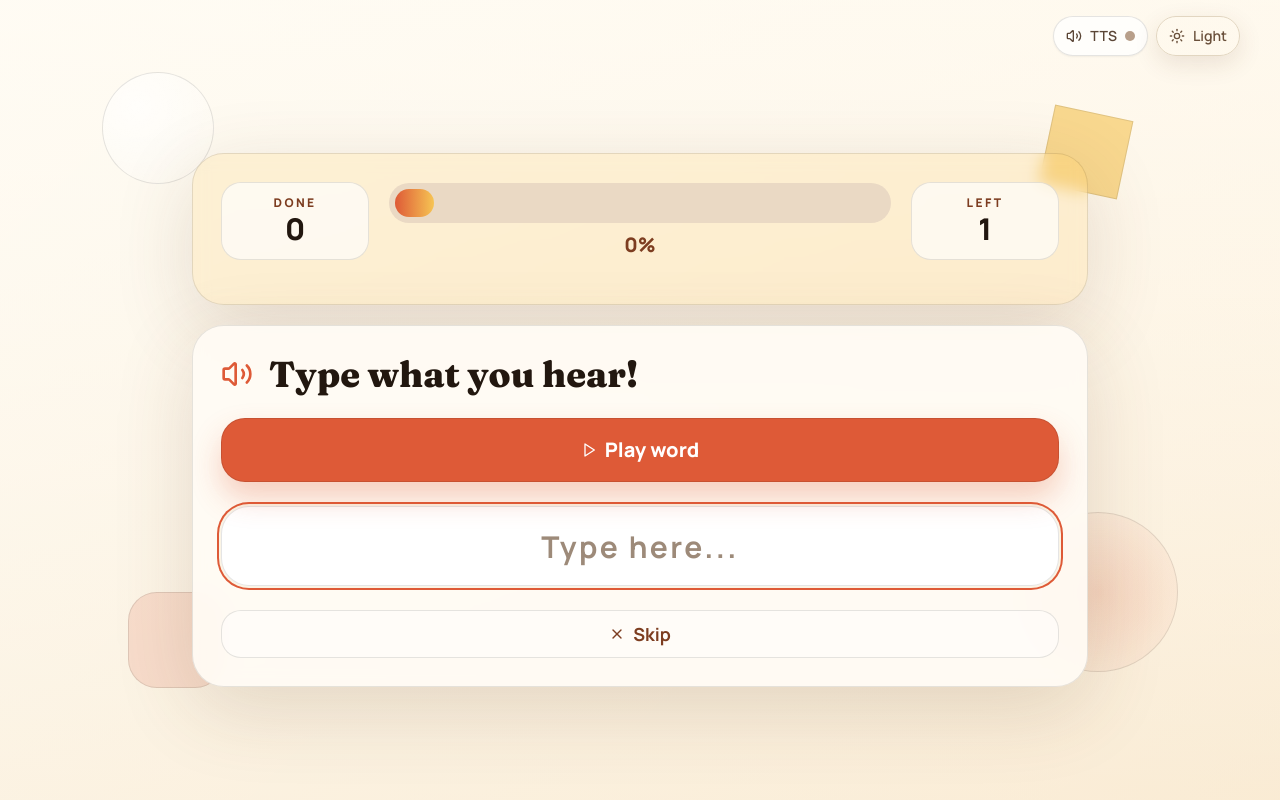
Test: QuestionScreen › rejects answer with different casing or accents in strict difficulty
Type "cafe" into the field with placeholder "Type here..." at [640, 546], box 221,506 -> 1059,586
Then press Enter
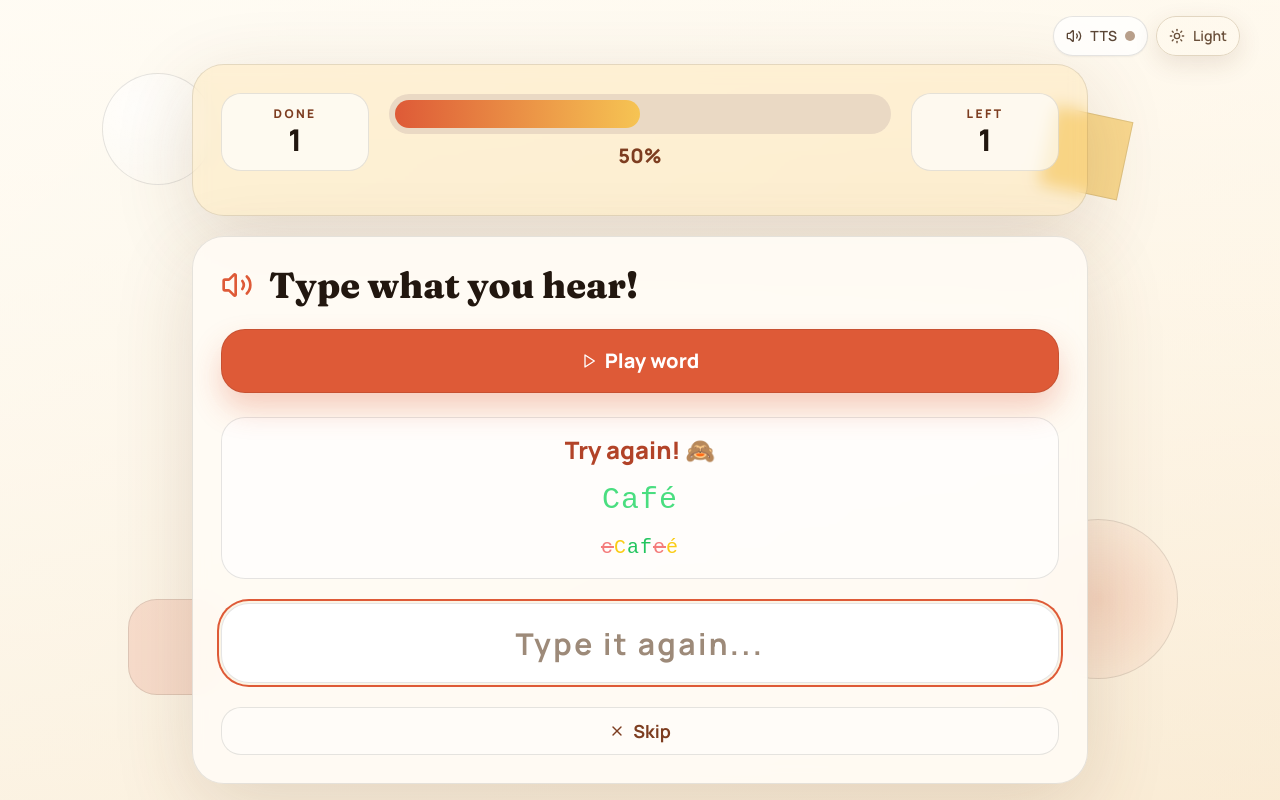
Expected: the text "Try again! 🙈" is shown, 565,433 -> 715,466
